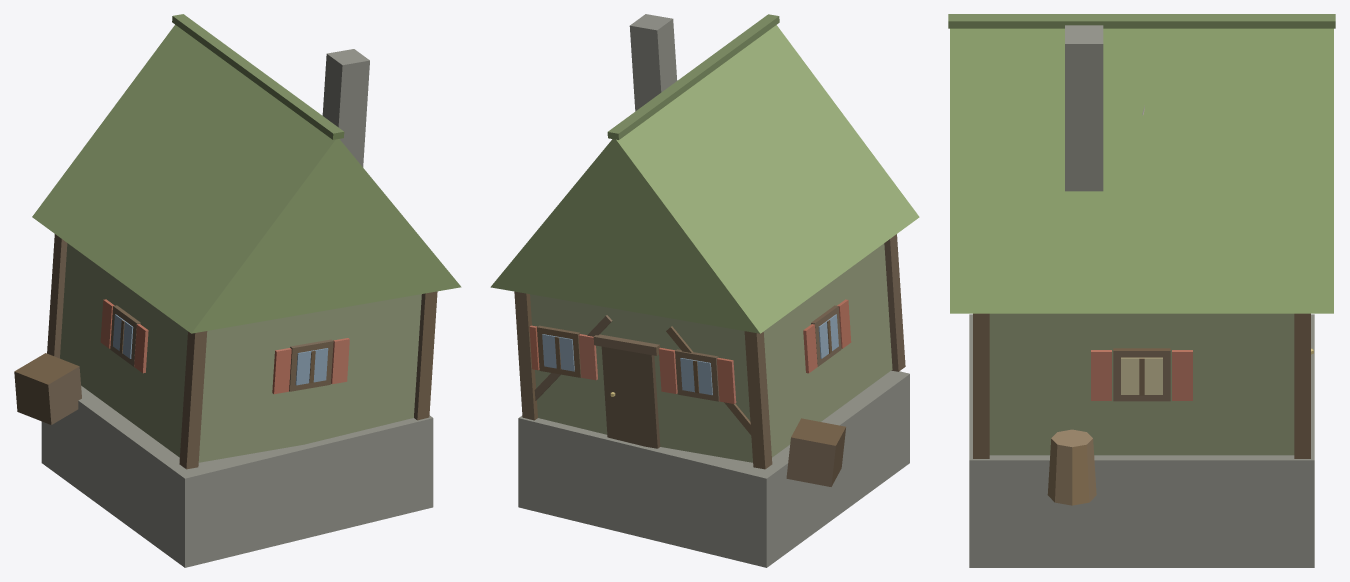
The model's file is goblin_hut.glb.
3 views of the same model, side by side, from view 1: azimuth 30°, elevation 25°; view 2: azimuth 150°, elevation 25°; view 3: azimuth 270°, elevation 25° (orthographic). The views are drawn at different scales.
Visible parts, largest first — view 1: goblin_hut2; view 2: goblin_hut2; view 3: goblin_hut2.
Part boxes in pixels (box(x1,y1,x2,y2)): goblin_hut2: box(14, 14, 461, 567); goblin_hut2: box(490, 14, 919, 567); goblin_hut2: box(948, 14, 1335, 567).
Size of the model in its own units: 6.59 by 8.1 by 5.55.
